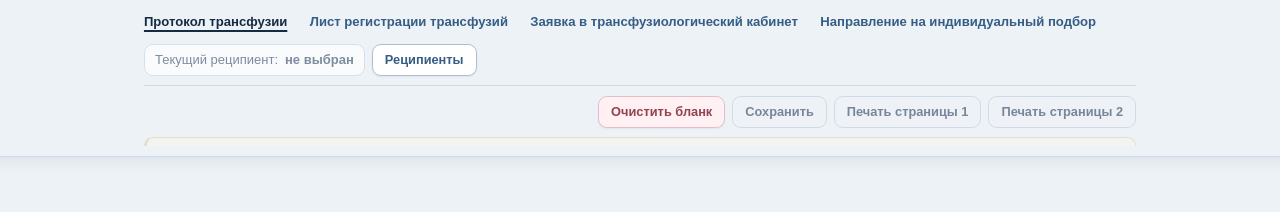
Test: blocks saving invalid hemacon dates without duplicating the permanent date notice
Click the button "Сохранить" at [780, 112], box [732, 96, 827, 128]
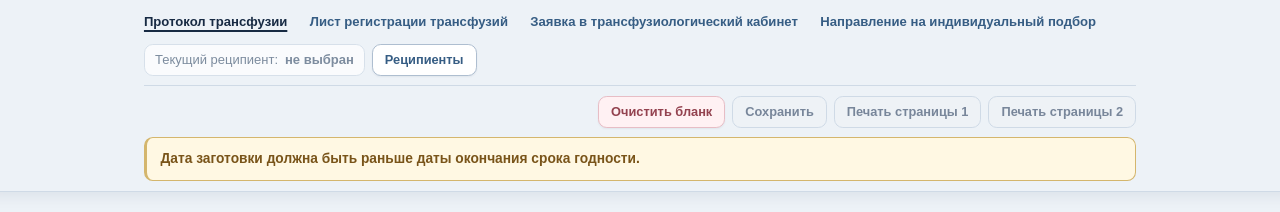
Expected: the number of messages is 1, [144, 137, 1136, 181]
Expected: the message reads "Дата заготовки должна быть раньше даты окончания срока годности.", [160, 151, 640, 166]
